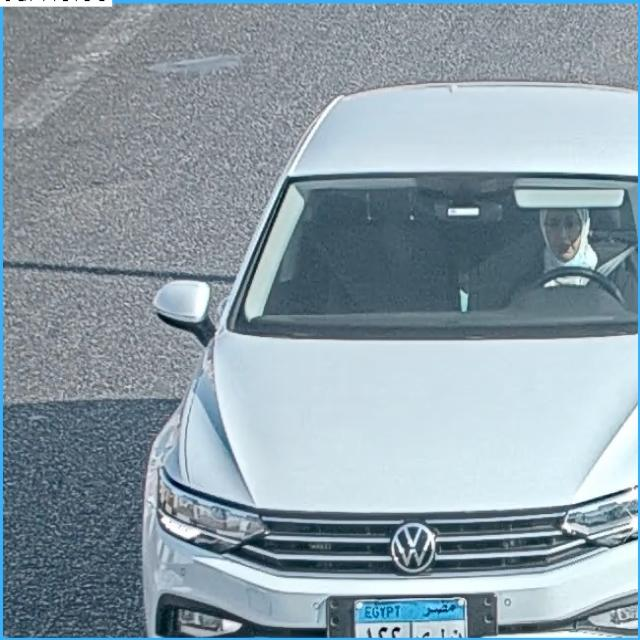windshield: (240, 172, 640, 328)
